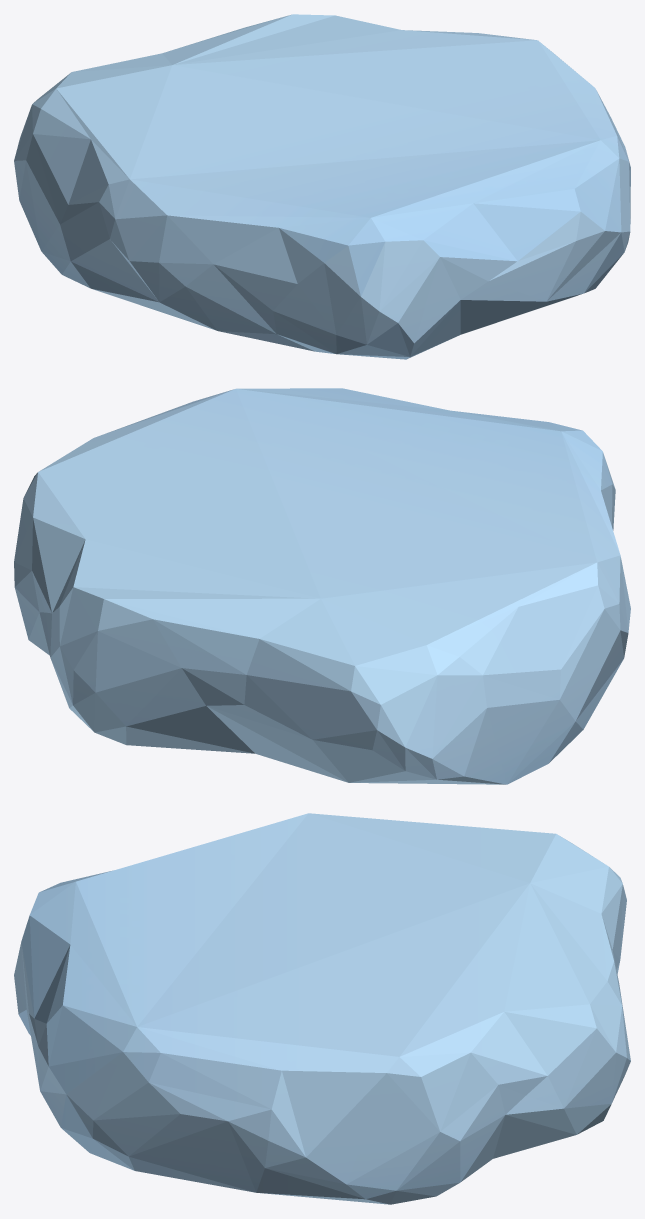
The model's file is Rock 09.FBX.
3 views of the same model, one above another, from view 1: azimuth 30°, elevation 25°; view 2: azimuth 150°, elevation 25°; view 3: azimuth 270°, elevation 25° (orthographic). The views are drawn at different scales.
Visible parts, largest first — view 1: Box001; view 2: Box001; view 3: Box001.
Boxes of the visible parts, x1,y1,x2,y2 form: Box001: (14, 14, 630, 359); Box001: (14, 388, 630, 784); Box001: (14, 813, 630, 1204).
Bounding box in the file's own units: 43.61 × 12.21 × 42.63.
